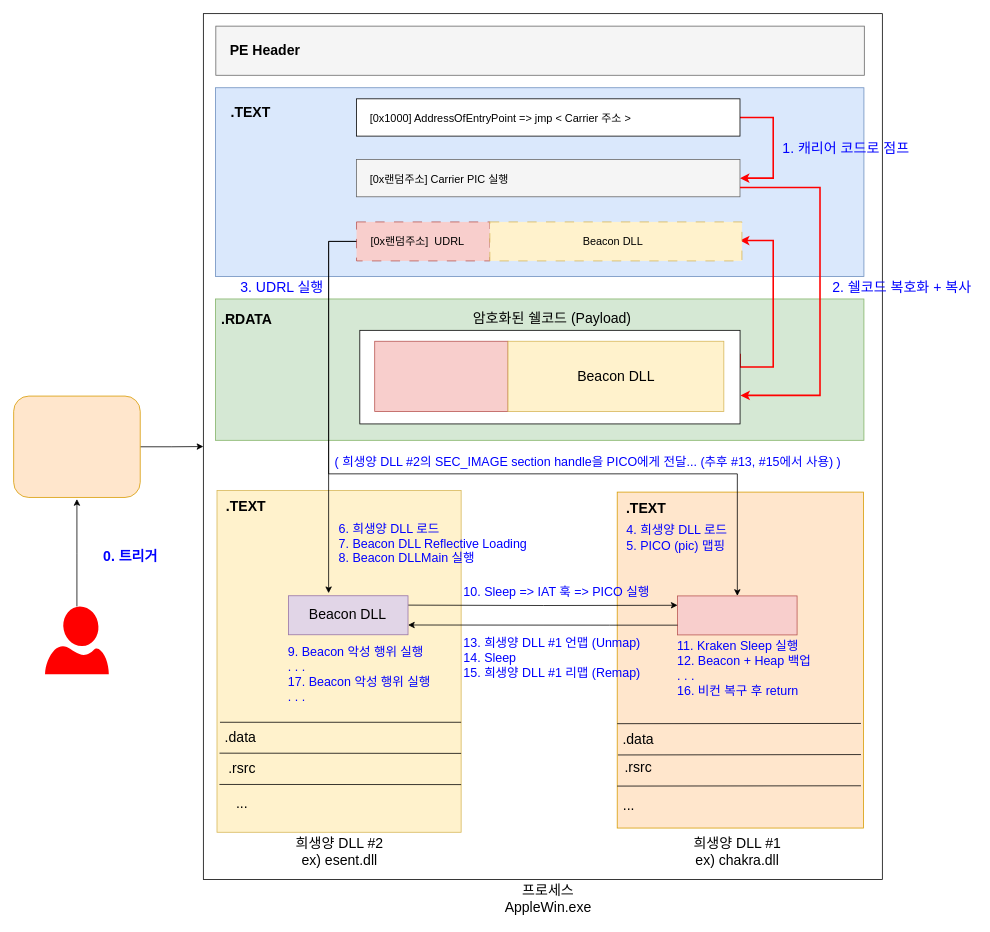
The diagram is 990 pixels wide and 932 high, and some of its shapes have lost their labels. Here are the shapes that lost their labels. From the top down, the centre of each, then its label:
At pixel 441 375: "UDRL (Barrel-Kit)".
At pixel 76 446: "트리거 FSS-I Exploit".
At pixel 737 615: "PICO".
